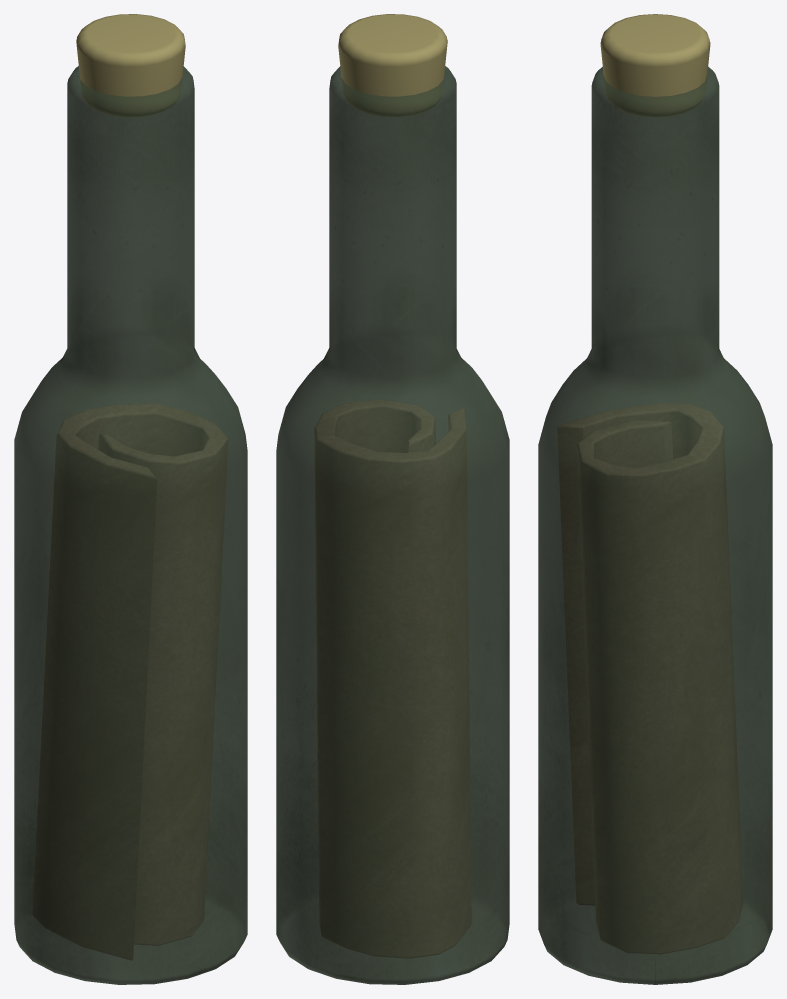
Rendered from botella.glb.
3 views of the same model, side by side, from view 1: azimuth 30°, elevation 25°; view 2: azimuth 150°, elevation 25°; view 3: azimuth 270°, elevation 25° (orthographic).
Parts seen in each view (by area): view 1: pCylinder3 (×2), pCube1; view 2: pCylinder3 (×2), pCube1; view 3: pCylinder3 (×2), pCube1.
Boxes of the visible parts, x1,y1,x2,y2 form: pCylinder3 (×2): [14, 14, 247, 984]; pCube1: [33, 404, 227, 960]; pCylinder3 (×2): [276, 14, 509, 984]; pCube1: [314, 400, 471, 958]; pCylinder3 (×2): [538, 14, 772, 984]; pCube1: [557, 403, 742, 953].
Size of the model in its own units: 0.4701 by 2 by 0.4701.
3 materials, 3 textured.
